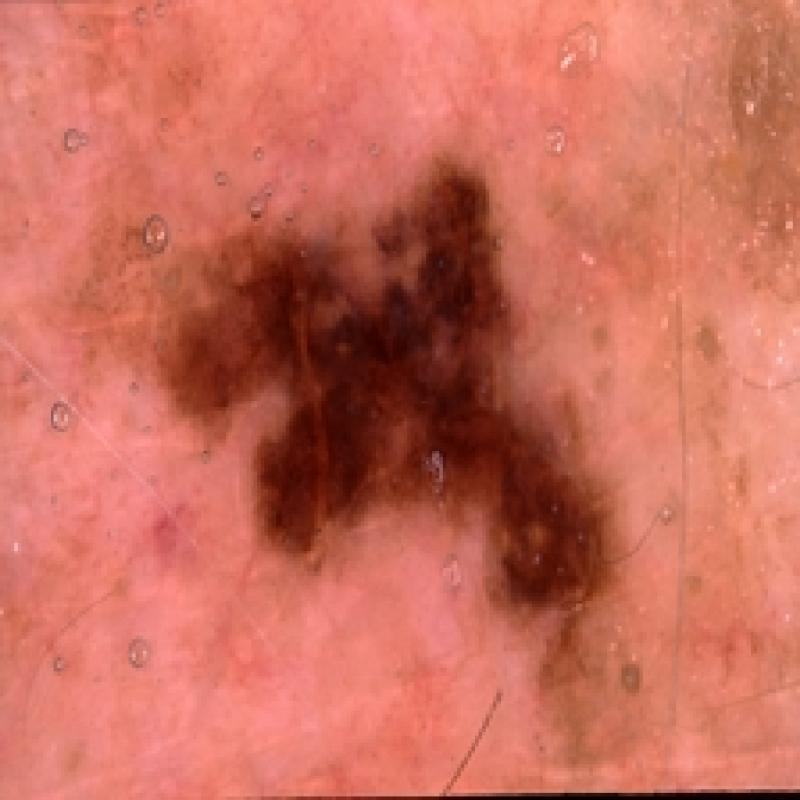malignant: (139, 142, 640, 646), (726, 552, 726, 552)
